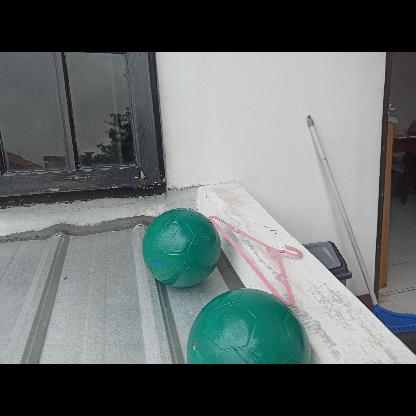green_ball: (180, 289, 309, 363), (142, 206, 222, 286)
